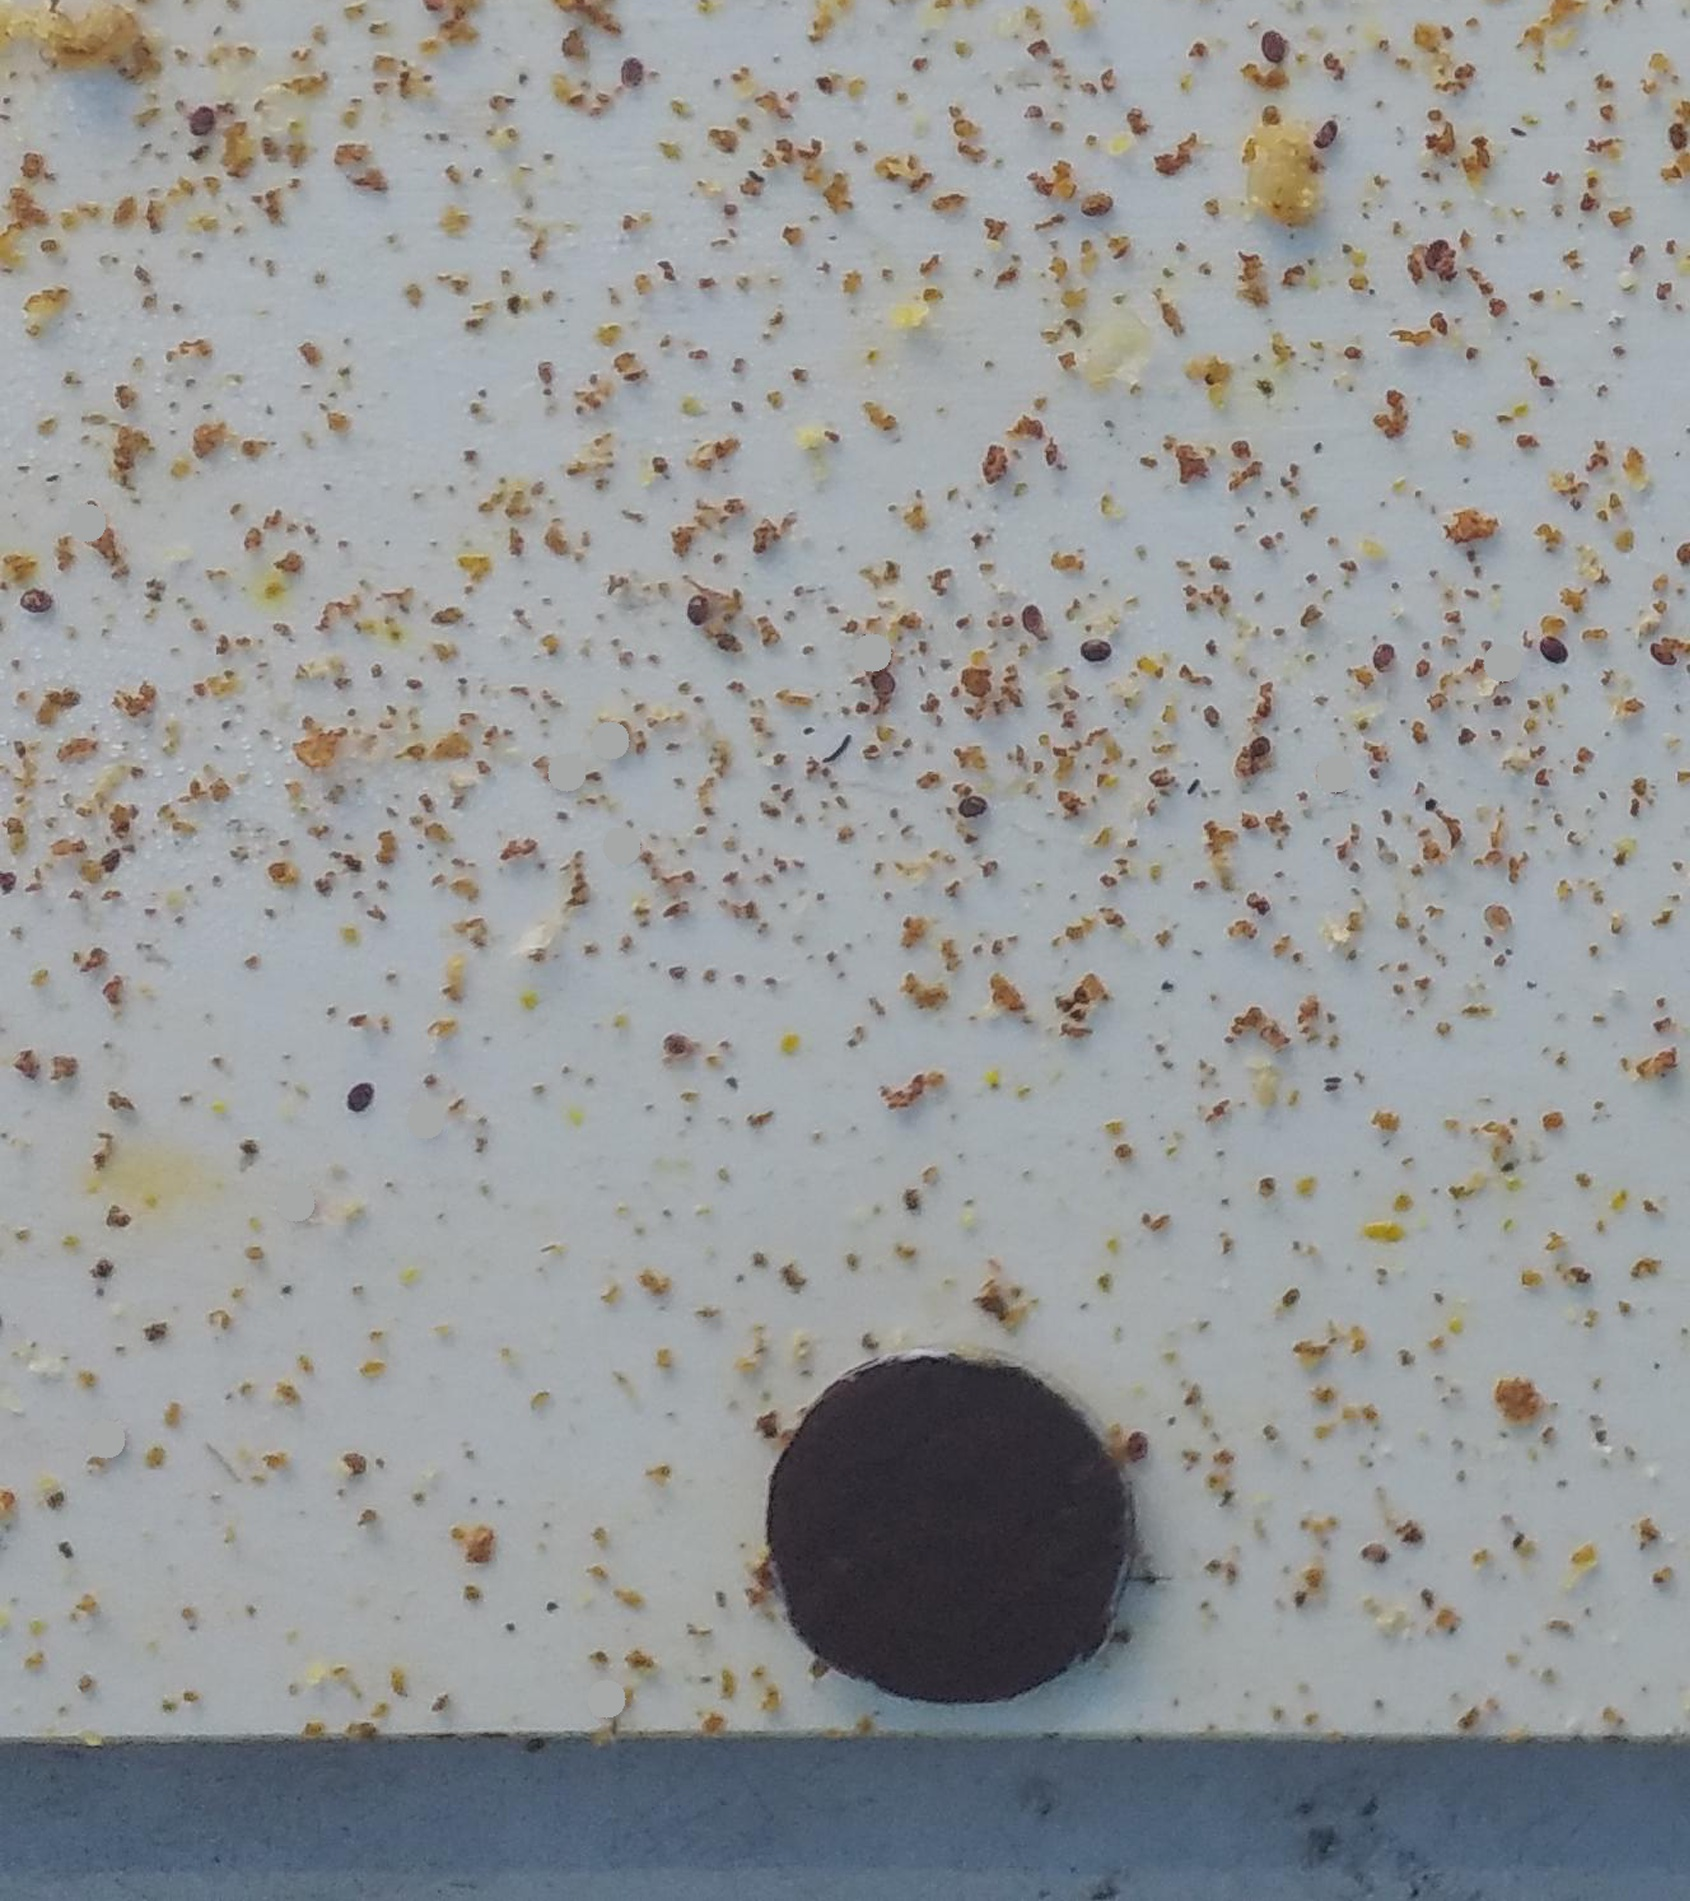Varroa: (688, 596, 723, 631), (1015, 597, 1049, 631), (865, 666, 897, 698), (21, 586, 51, 618), (1542, 633, 1569, 666), (1370, 641, 1400, 671), (1421, 242, 1450, 269), (1083, 189, 1111, 219), (1082, 631, 1109, 661), (1126, 1428, 1153, 1456), (1258, 28, 1285, 55), (186, 109, 214, 135), (1315, 126, 1341, 153), (344, 1083, 370, 1111), (618, 59, 644, 85), (958, 791, 984, 818), (1648, 641, 1670, 666)
